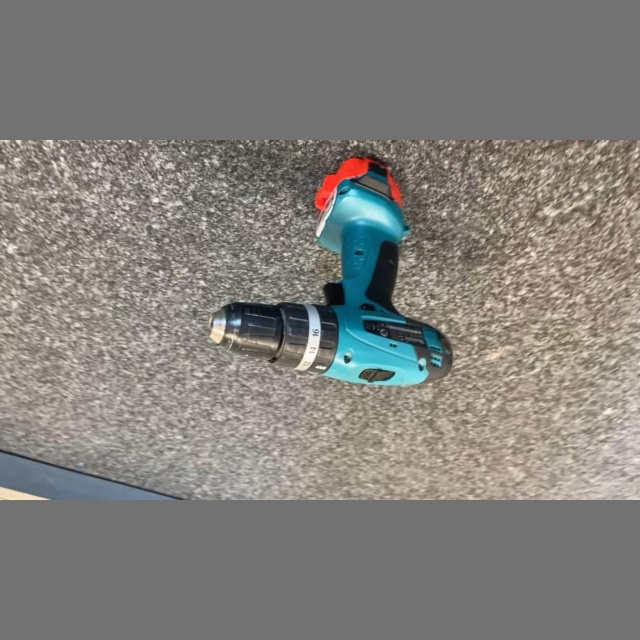drill: (203, 152, 458, 392)
